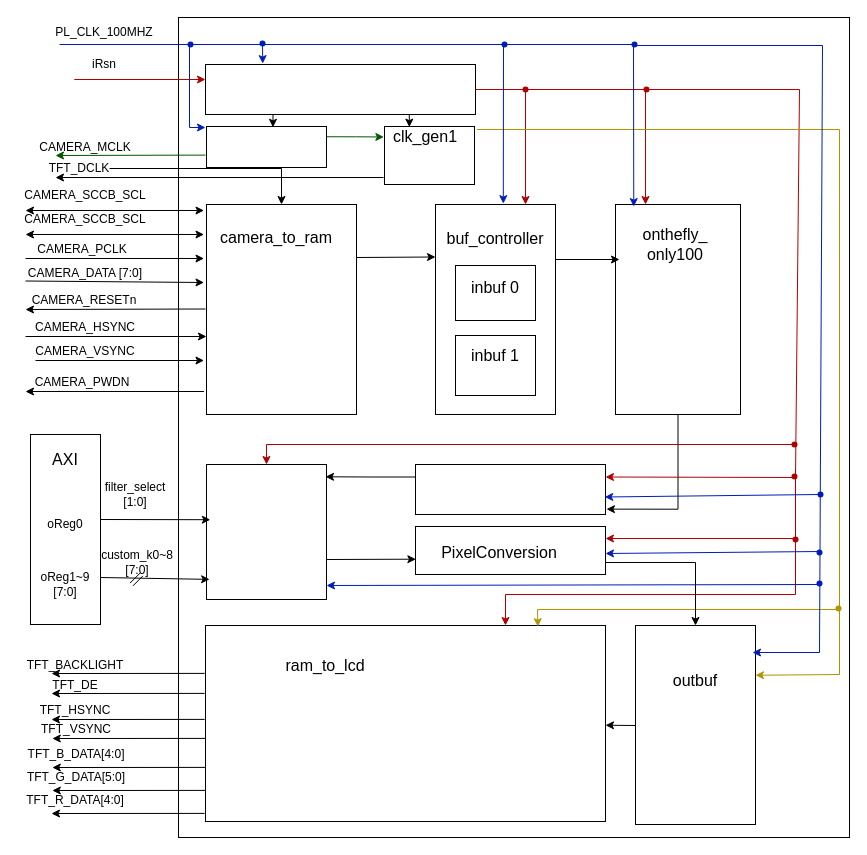
The diagram is 867 pixels wide and 855 high, and some of its shapes have lost their labels. The shapes that lost their labels are listed below. From the top down, each one's box as (x1, y1, x2, y2) in pixels, then its label:
(204, 64, 476, 114): Rst_sync
(206, 126, 326, 168): clk_gen0
(414, 464, 606, 514): Pxl565to888
(206, 464, 326, 600): ConvRelu
